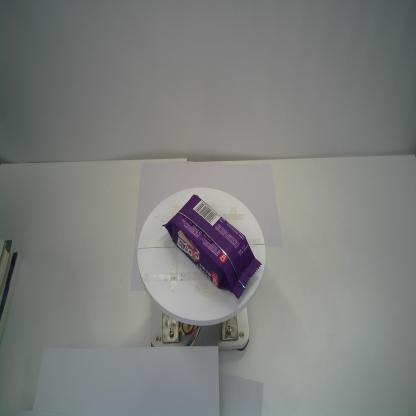Dessert: (161, 194, 262, 300)
